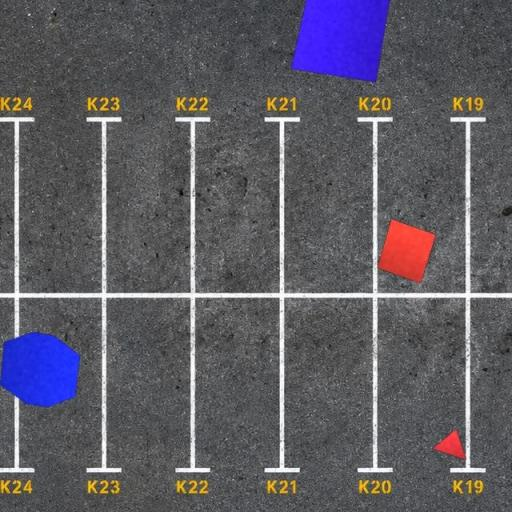BLUE_SQUARE: (290, 0, 390, 83)
RED_SQUARE: (377, 218, 436, 284)
